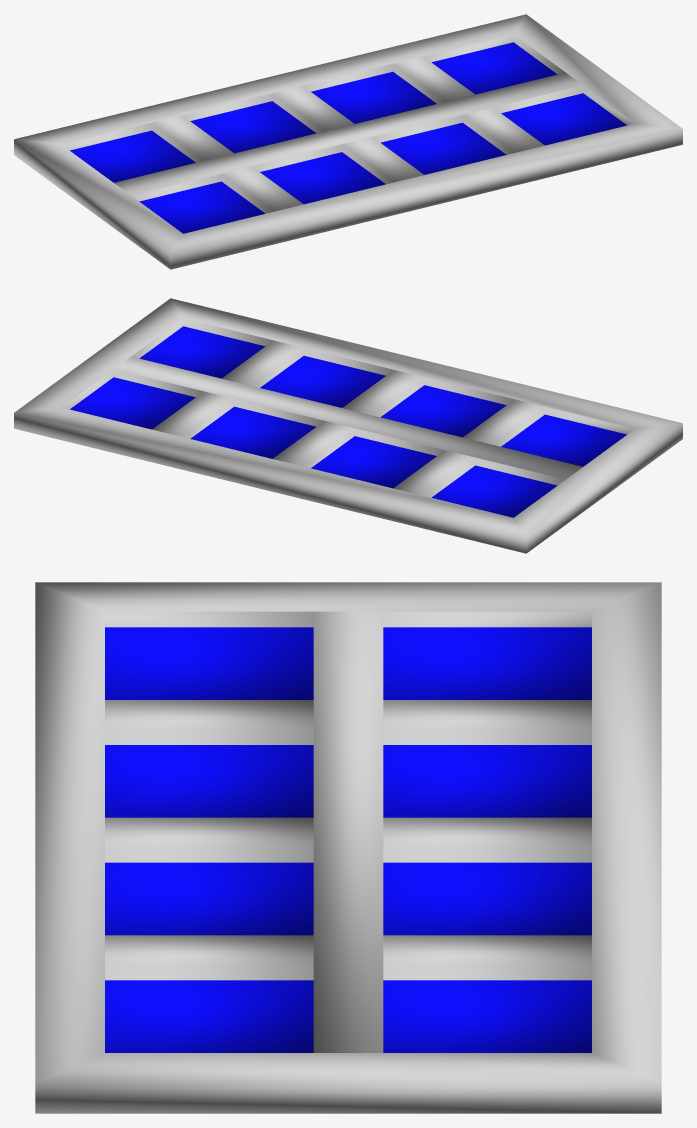
The model's file is kitC.fbx.
The picture shows the model from 3 angles, top to bottom: view 1: azimuth 30°, elevation 25°; view 2: azimuth 150°, elevation 25°; view 3: azimuth 270°, elevation 25°; orthographic projection. The views are drawn at different scales.
Visible parts, largest first — view 1: Cube; view 2: Cube; view 3: Cube.
Boxes of the visible parts, x1=… form: Cube: x1=14, y1=14, x2=682, y2=269; Cube: x1=14, y1=298, x2=682, y2=553; Cube: x1=35, y1=582, x2=661, y2=1113.
Size of the model in its own units: 216 by 6.35 by 114.
